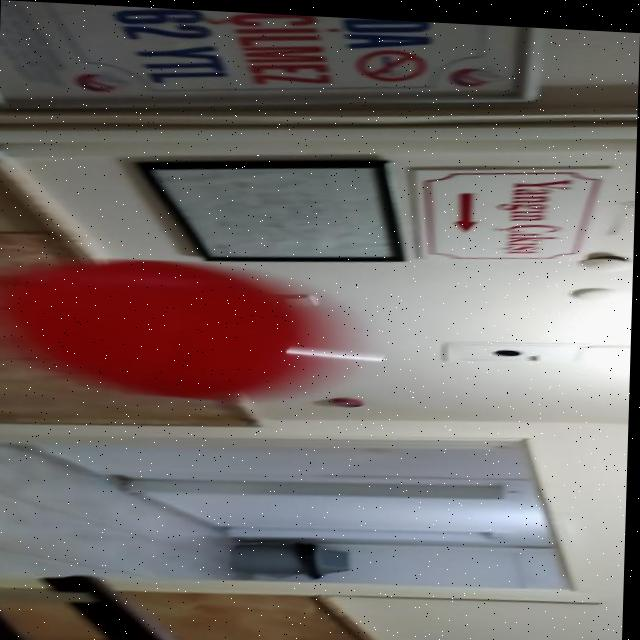balloon: (0, 242, 355, 412)
